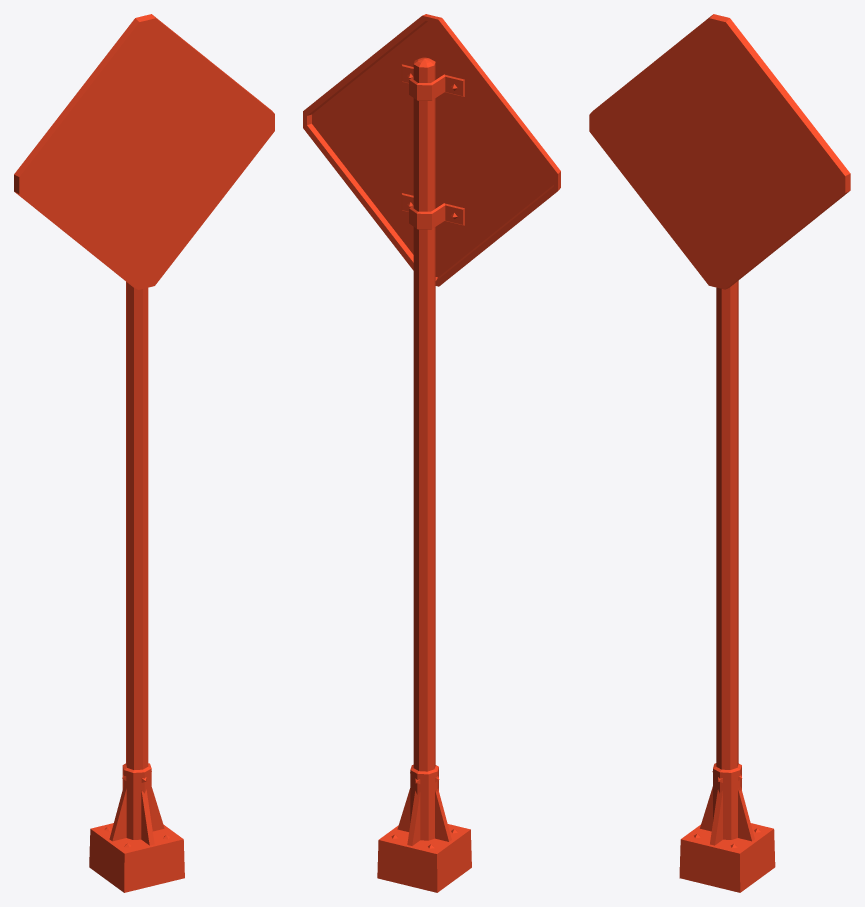
Rendered from SM_Sign_Stop_Ahead_B_City.fbx.
3 views of the same model, side by side, from view 1: azimuth 30°, elevation 25°; view 2: azimuth 150°, elevation 25°; view 3: azimuth 330°, elevation 25° (orthographic).
Parts seen in each view (by area): view 1: SM_Sign_Stop_Ahead_B_City; view 2: SM_Sign_Stop_Ahead_B_City; view 3: SM_Sign_Stop_Ahead_B_City.
Part boxes in pixels (bbox=[...]): SM_Sign_Stop_Ahead_B_City: bbox=[14, 14, 274, 892]; SM_Sign_Stop_Ahead_B_City: bbox=[303, 14, 560, 892]; SM_Sign_Stop_Ahead_B_City: bbox=[589, 14, 850, 892].
Size of the model in its own units: 0.7813 by 2.49 by 0.1839.
